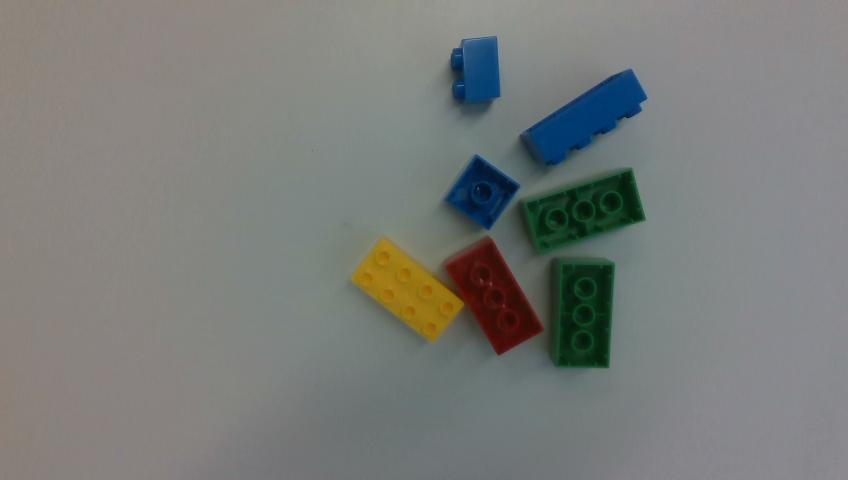2x2_blue: (445, 155, 519, 229), (452, 36, 500, 104)
4x2_blue: (521, 69, 646, 164)
4x2_green: (520, 168, 645, 253), (550, 258, 613, 367)
4x2_red: (445, 238, 542, 354)
4x2_yellow: (351, 237, 463, 342)
